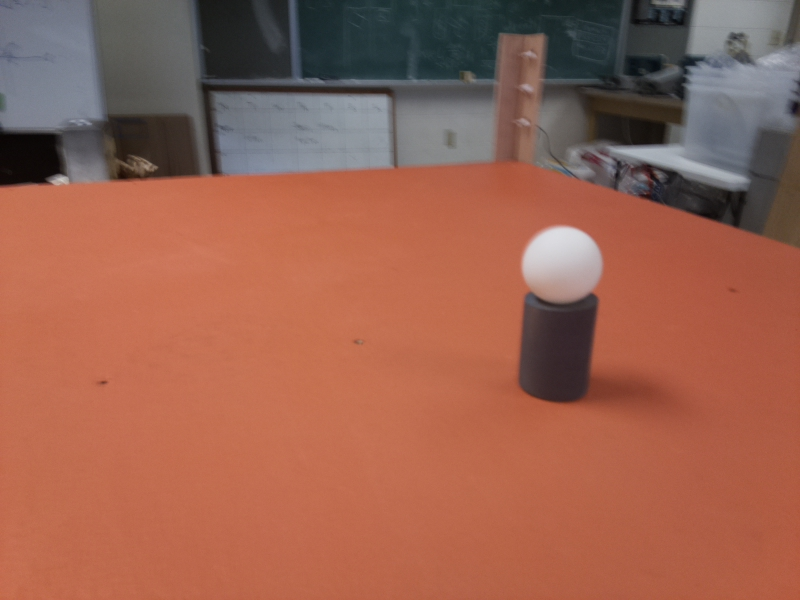corner: (490, 33, 553, 165)
obstacle: (520, 226, 603, 398)
